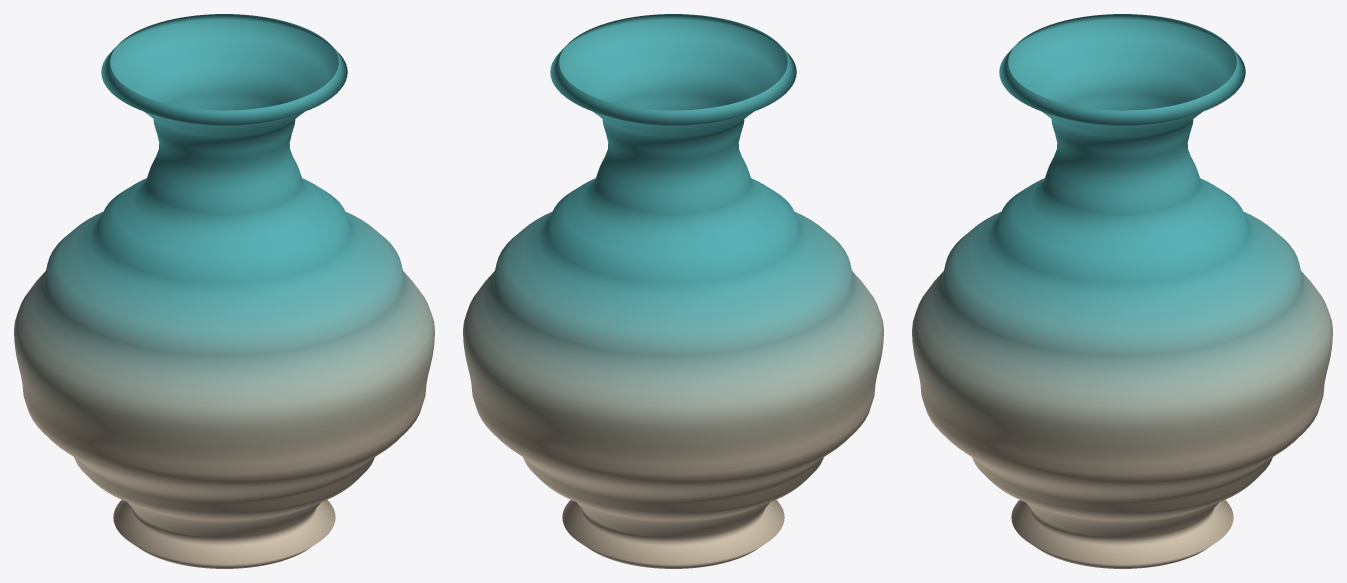
The model's file is example-vase.glb.
3 renders of one model, left to right at view 1: azimuth 30°, elevation 25°; view 2: azimuth 150°, elevation 25°; view 3: azimuth 270°, elevation 25°, orthographic.
Parts seen in each view (by area): view 1: vase; view 2: vase; view 3: vase.
Boxes of the visible parts, x1,y1,x2,y2 form: vase: (14, 14, 434, 568); vase: (463, 14, 883, 568); vase: (912, 14, 1332, 568).
Bounding box in the file's own units: 0.9391 × 1.14 × 0.9391.
